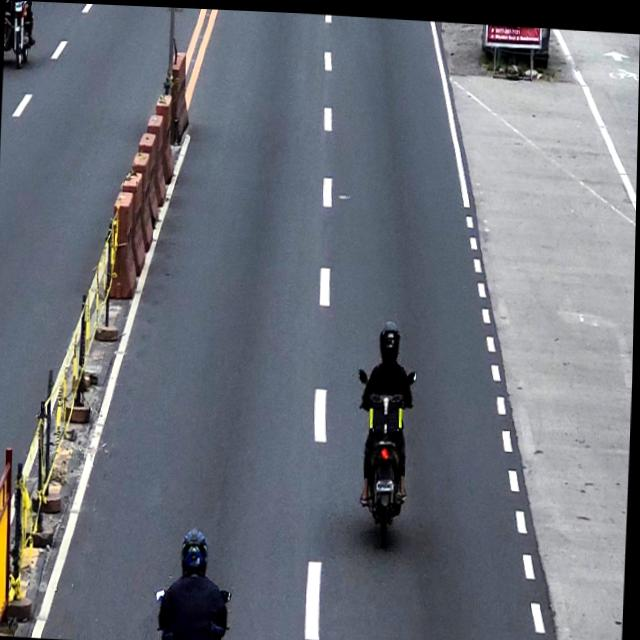License-Plate: (378, 476, 396, 488)
Motorcycle: (354, 363, 418, 546)
